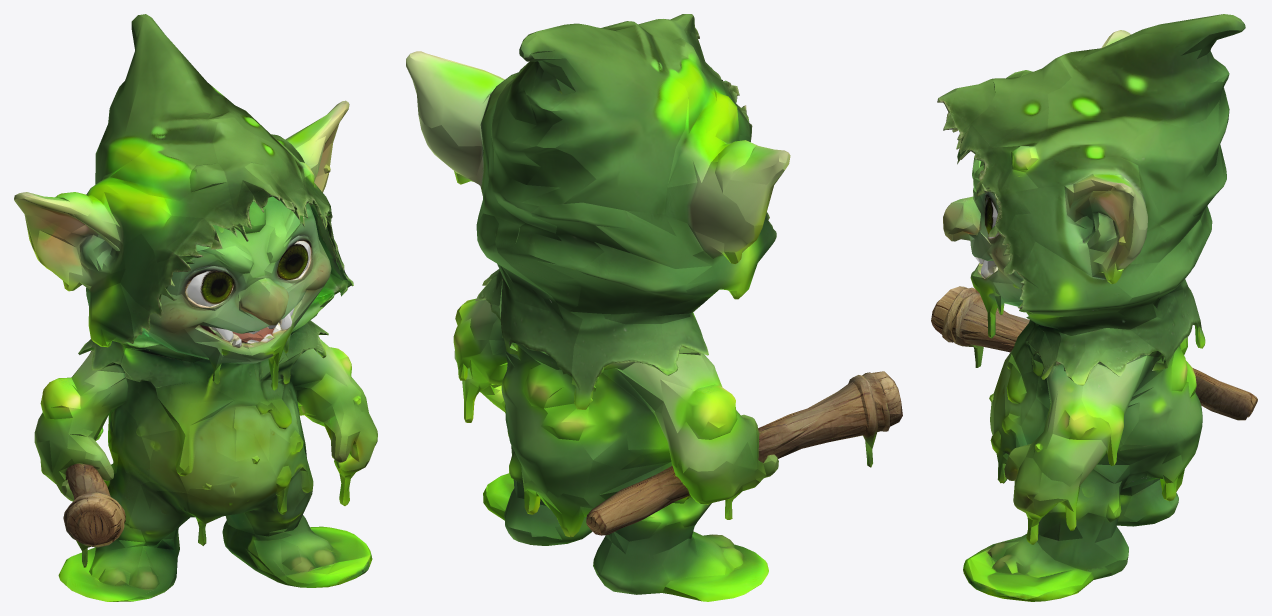
File: goblin.glb
3 renders of one model, left to right at view 1: azimuth 30°, elevation 25°; view 2: azimuth 150°, elevation 25°; view 3: azimuth 270°, elevation 25°, orthographic. The views are drawn at different scales.
Size of the model in its own units: 1.43 by 1.9 by 1.08.
1 material, 1 textured.
